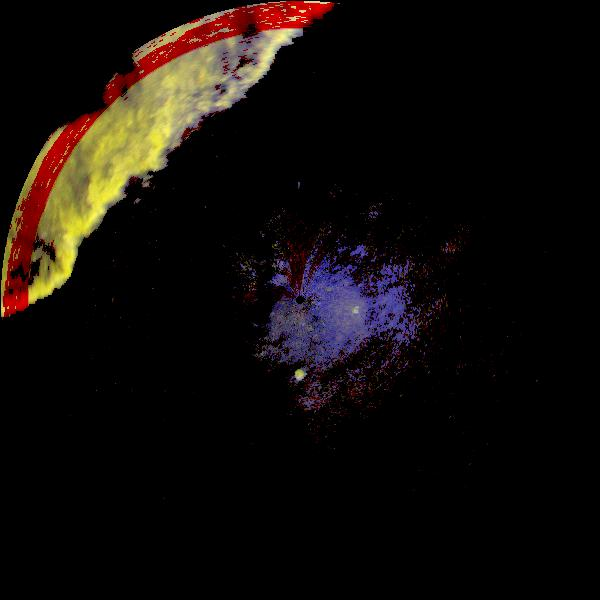roost: (292, 367, 310, 385), (348, 304, 363, 319)
